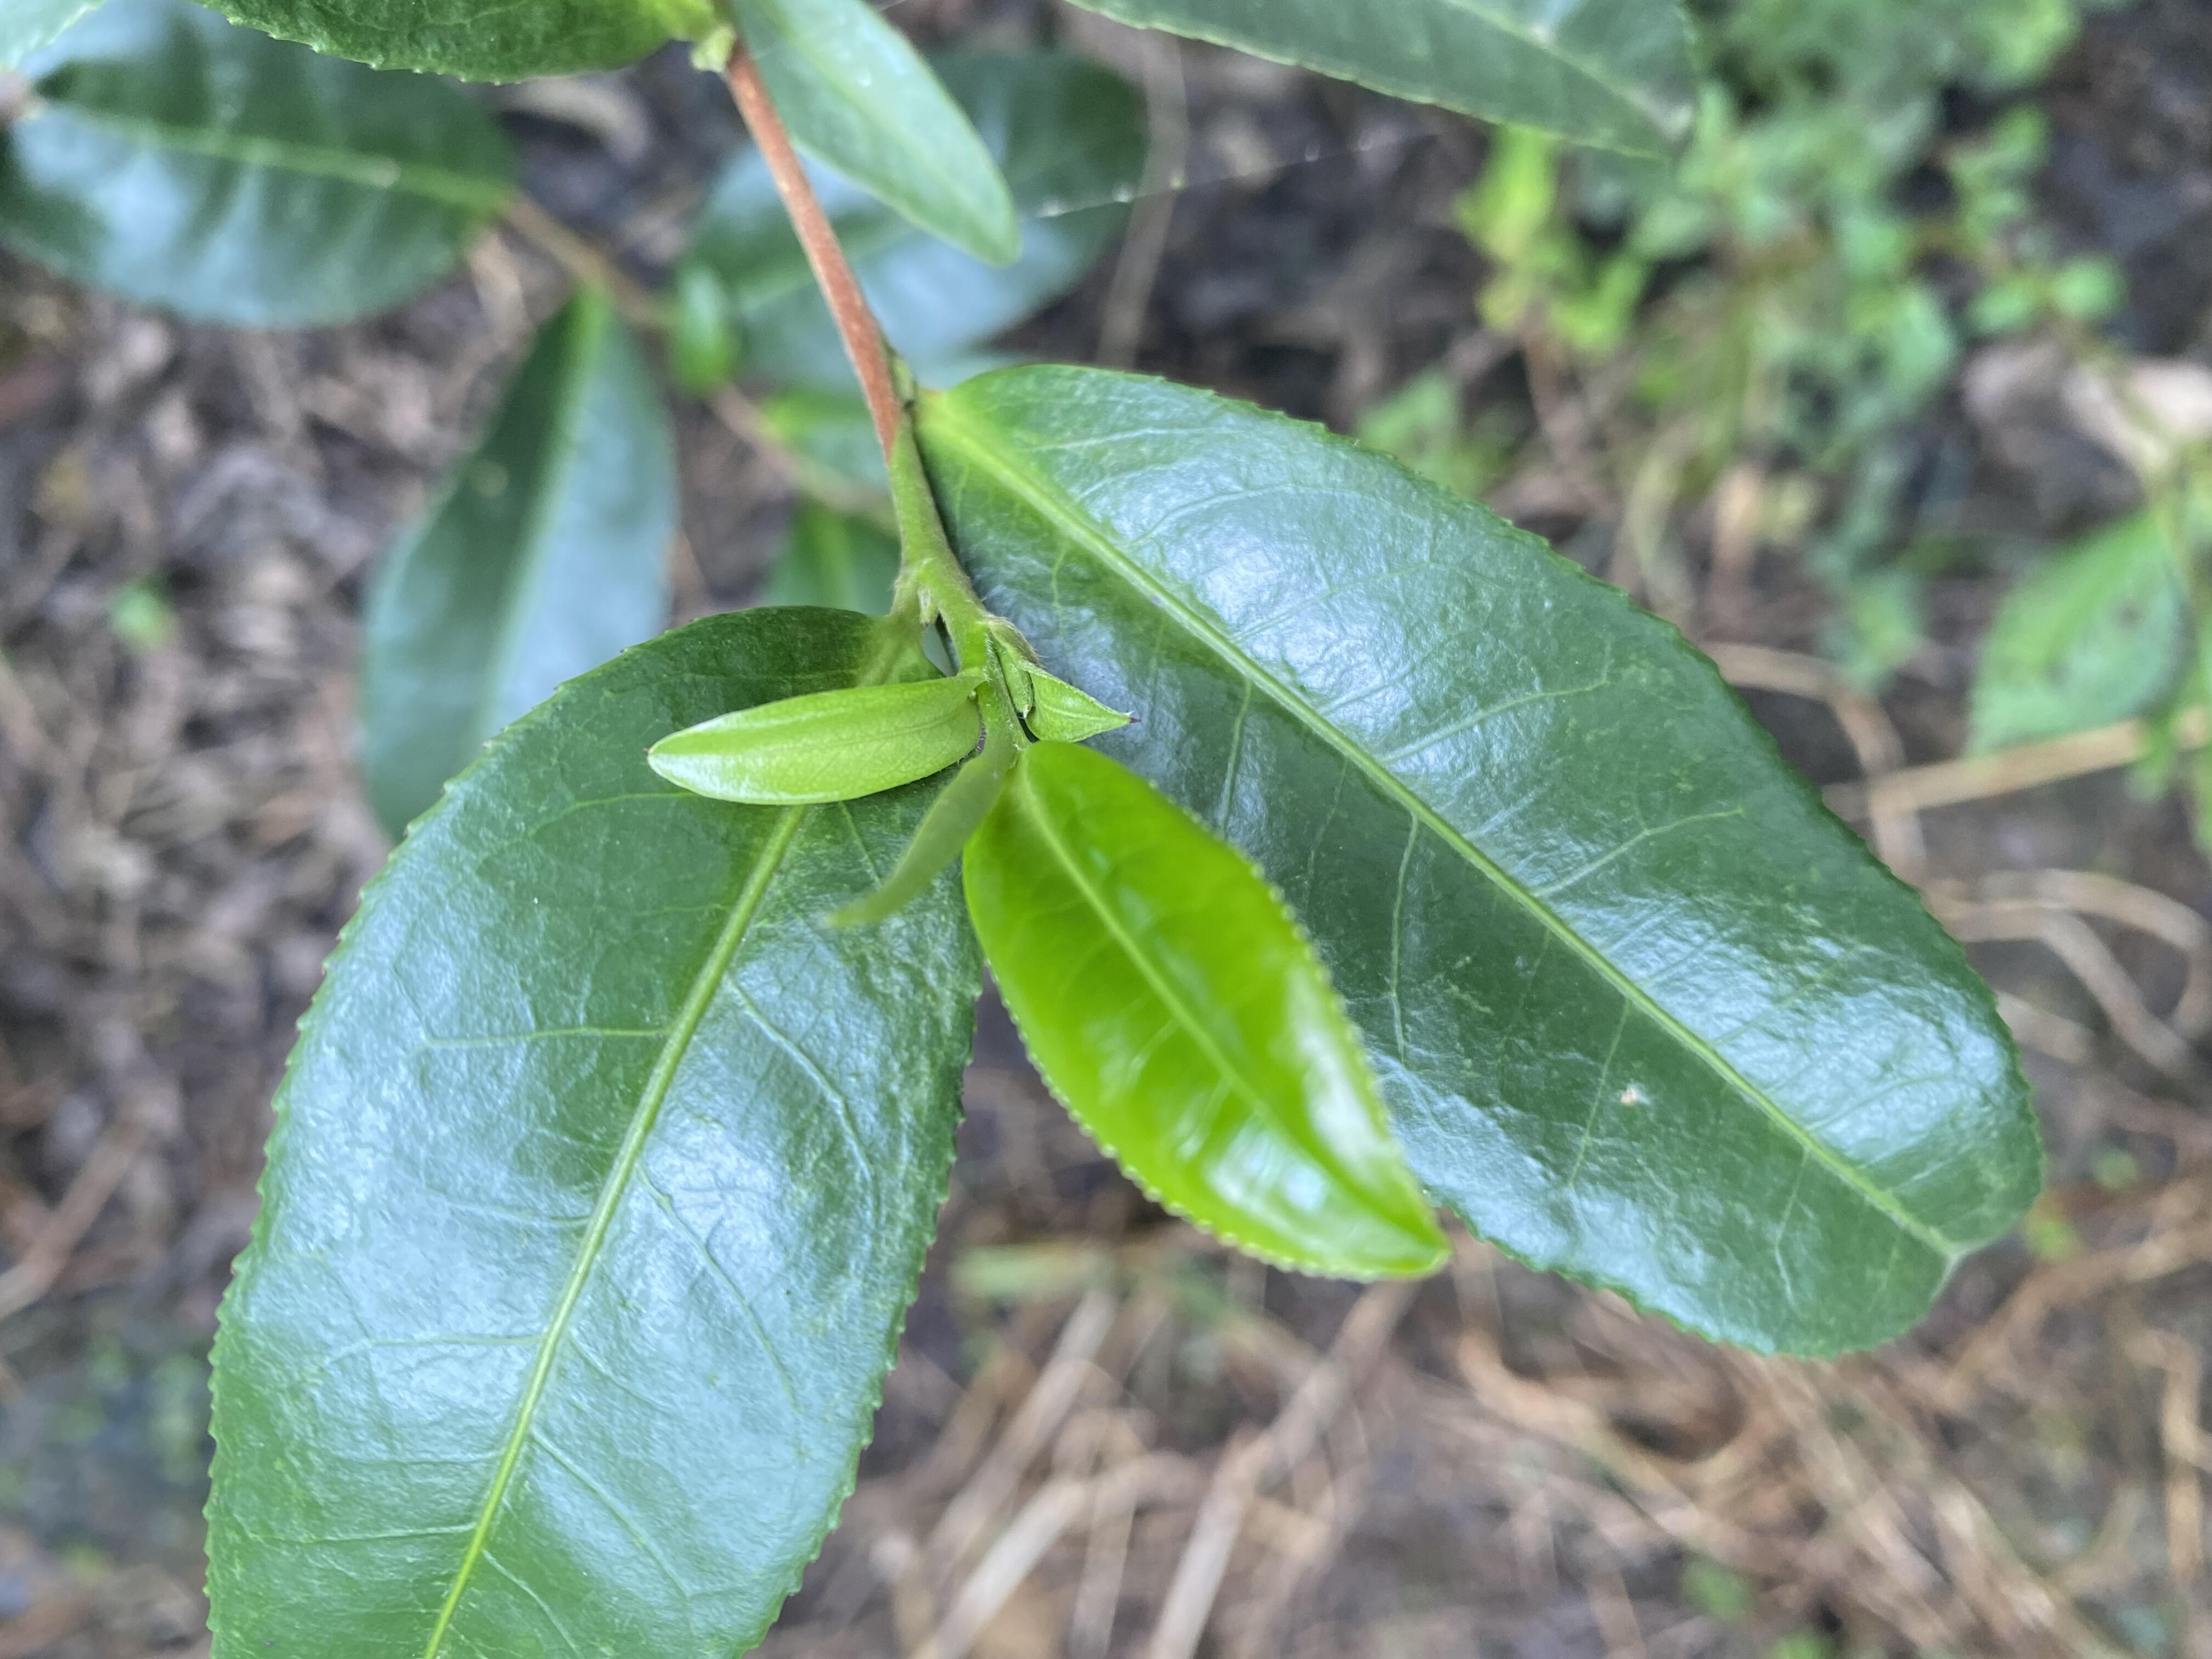healthy: (928, 362, 2045, 1361), (202, 605, 984, 1659), (958, 744, 1454, 1284)
